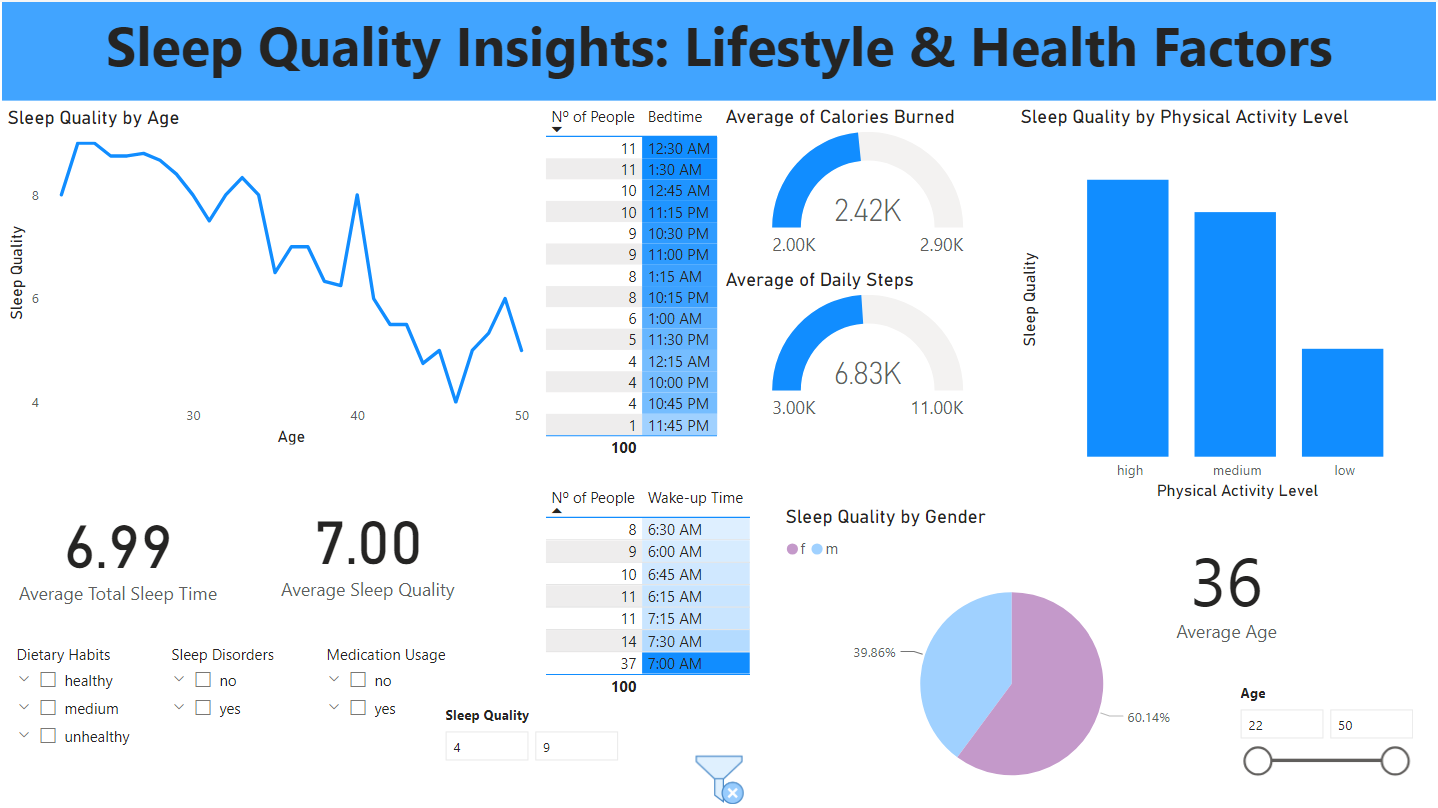

What the dashboard file says about the page in this screenshot:
{"tool":"powerbi","page":{"name":"Page 1","canvas":[1280,720],"ordinal":0},"visuals":[{"type":"lineChart","fields":{"Category":["Health_Sleep_Statistics.Age"],"Y":["Avg(Health_Sleep_Statistics.Sleep Quality)"]},"box":[0,92.4,478.5,307.4],"z":0},{"type":"clusteredColumnChart","title":"Sleep Quality by Physical Activity Level","fields":{"Category":["Health_Sleep_Statistics.Physical Activity Level"],"Y":["Sum(Health_Sleep_Statistics.Sleep Quality)"]},"box":[904,92.3,376,356.8],"z":1000},{"type":"pieChart","title":"Sleep Quality by Gender","fields":{"Category":["Health_Sleep_Statistics.Gender"],"Y":["Sum(Health_Sleep_Statistics.Sleep Quality)"]},"box":[694.3,449.1,413.5,271.2],"z":2000},{"type":"tableEx","fields":{"Values":["CountNonNull(Health_Sleep_Statistics.User ID)","Health_Sleep_Statistics.Bedtime"]},"box":[478.9,87.5,197.1,339.5],"z":3000},{"type":"tableEx","fields":{"Values":["CountNonNull(Health_Sleep_Statistics.User ID)","Health_Sleep_Statistics.Wake-up Time"]},"box":[478.9,427,197.1,202],"z":4000},{"type":"slicer","fields":{"Values":["Health_Sleep_Statistics.Medication Usage","Health_Sleep_Statistics.Sleep Quality"]},"box":[277,568.4,186.6,109.6],"z":5000},{"type":"slicer","fields":{"Values":["Health_Sleep_Statistics.Sleep Disorders","Health_Sleep_Statistics.Sleep Quality"]},"box":[138.5,568.4,138.5,83.7],"z":6000},{"type":"slicer","fields":{"Values":["Health_Sleep_Statistics.Dietary Habits","Health_Sleep_Statistics.Sleep Quality"]},"box":[0,568.4,138.5,117.3],"z":7000},{"type":"textbox","box":[0,0,1280,87.5],"z":8000},{"type":"card","fields":{"Values":["Avg(Health_Sleep_Statistics.Total Sleep Time)"]},"box":[0,414.8,206.9,149.2],"z":9000},{"type":"card","fields":{"Values":["Avg(Health_Sleep_Statistics.Sleep Quality)"]},"box":[206.9,408.1,238.7,155.9],"z":10000},{"type":"gauge","fields":{"Y":["Avg(Health_Sleep_Statistics.Calories Burned)"]},"box":[640.5,92.3,263.5,145.2],"z":11000},{"type":"gauge","fields":{"Y":["Avg(Health_Sleep_Statistics.Daily Steps)"]},"box":[640.5,237.5,263.5,145.2],"z":12000},{"type":"card","fields":{"Values":["Avg(Health_Sleep_Statistics.Age)"]},"box":[999.2,462.6,186.6,122.1],"z":13000},{"type":"image","box":[564.5,666.4,151,53.9],"z":14000},{"type":"slicer","fields":{"Values":["Health_Sleep_Statistics.Age"]},"box":[1092.5,603,172.1,108.7],"z":15000},{"type":"slicer","fields":{"Values":["Health_Sleep_Statistics.Sleep Quality"]},"box":[382.7,623.2,178.9,88.5],"z":16000}]}

Visuals, with their boxes in screenshot pixels (x1, y1, x2, y2), scaled from the page's 1280x720 canvas onto the 1438x808 screenshot:
lineChart - Health_Sleep_Statistics.Age x Avg(Health_Sleep_Statistics.Sleep Quality): 0/104/538/449
"Sleep Quality by Physical Activity Level" clusteredColumnChart: 1016/104/1437/504
"Sleep Quality by Gender" pieChart: 780/504/1245/807
tableEx - CountNonNull(Health_Sleep_Statistics.User ID) x Health_Sleep_Statistics.Bedtime: 538/98/759/479
tableEx - CountNonNull(Health_Sleep_Statistics.User ID) x Health_Sleep_Statistics.Wake-up Time: 538/479/759/706
slicer - Health_Sleep_Statistics.Medication Usage x Health_Sleep_Statistics.Sleep Quality: 311/638/521/761
slicer - Health_Sleep_Statistics.Sleep Disorders x Health_Sleep_Statistics.Sleep Quality: 156/638/311/732
slicer - Health_Sleep_Statistics.Dietary Habits x Health_Sleep_Statistics.Sleep Quality: 0/638/156/770
textbox: 0/0/1437/98
card - Avg(Health_Sleep_Statistics.Total Sleep Time): 0/465/232/633
card - Avg(Health_Sleep_Statistics.Sleep Quality): 232/458/501/633
gauge - Avg(Health_Sleep_Statistics.Calories Burned): 720/104/1016/267
gauge - Avg(Health_Sleep_Statistics.Daily Steps): 720/267/1016/429
card - Avg(Health_Sleep_Statistics.Age): 1123/519/1332/656
image: 634/748/804/807
slicer - Health_Sleep_Statistics.Age: 1227/677/1421/799
slicer - Health_Sleep_Statistics.Sleep Quality: 430/699/631/799
